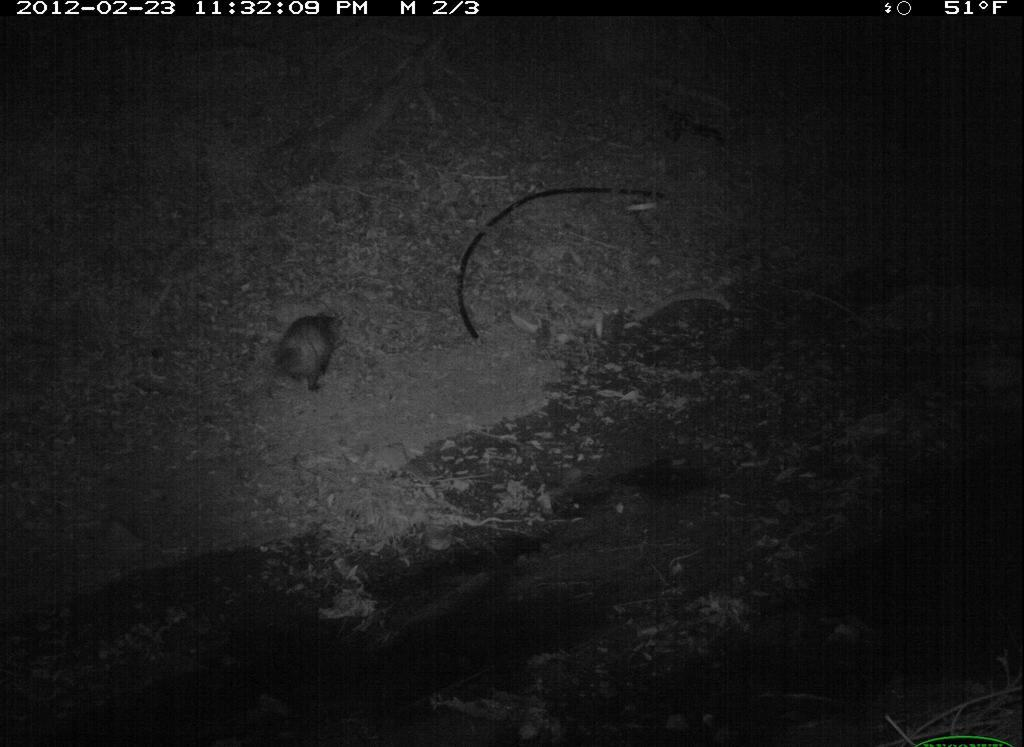opossum: (268, 305, 350, 399)
